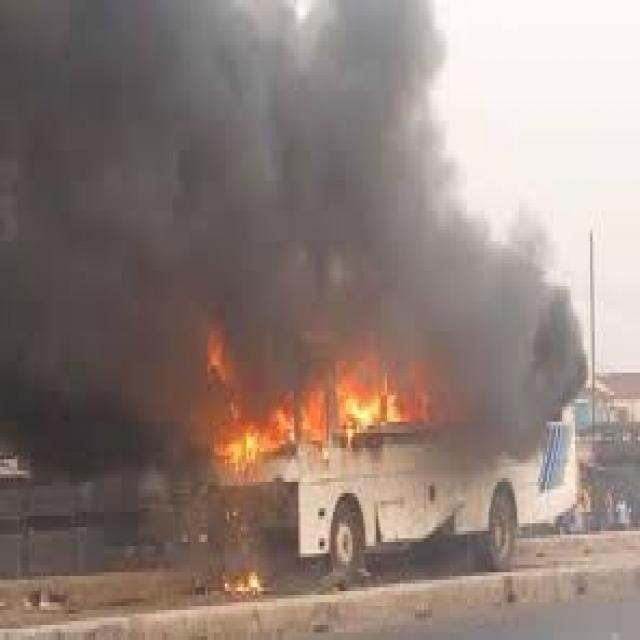fire: (201, 324, 469, 467), (212, 554, 272, 598)
smoke: (2, 4, 593, 467)
